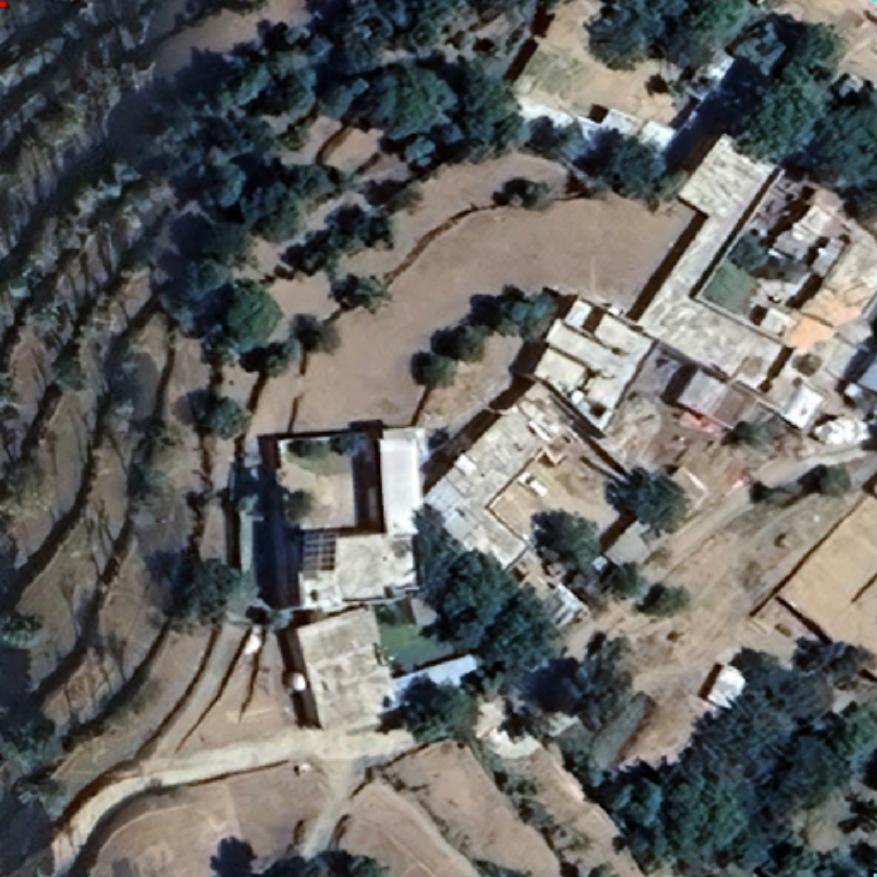Solarpanel: (302, 530, 336, 572)
